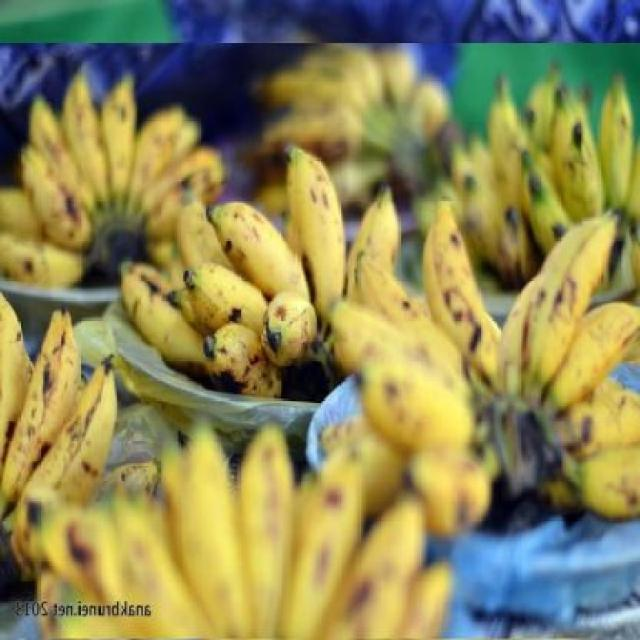Banana: (317, 204, 640, 544), (35, 427, 455, 640), (135, 140, 407, 406), (419, 61, 640, 292), (0, 288, 160, 592), (16, 71, 231, 271)
